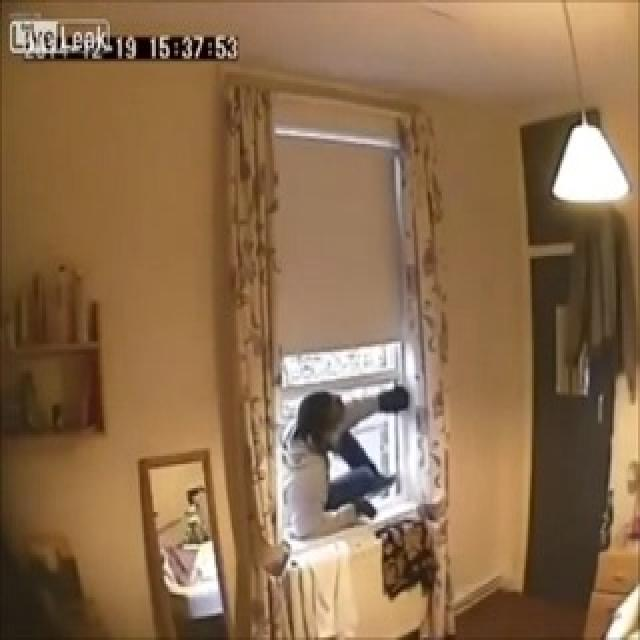thief: (280, 383, 380, 548)
